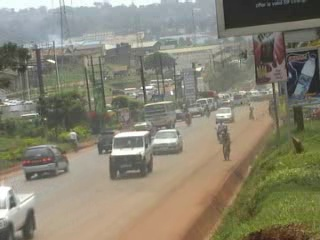Car: (21, 141, 70, 182), (149, 125, 185, 157), (96, 127, 121, 156), (130, 119, 158, 137), (214, 104, 235, 124), (172, 107, 188, 122)
Motorcycle: (214, 119, 231, 144), (180, 104, 194, 128), (202, 101, 211, 119)
